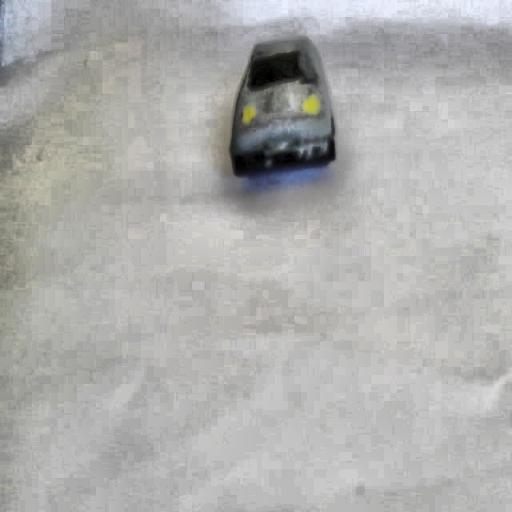normal_car: (230, 38, 334, 174)
